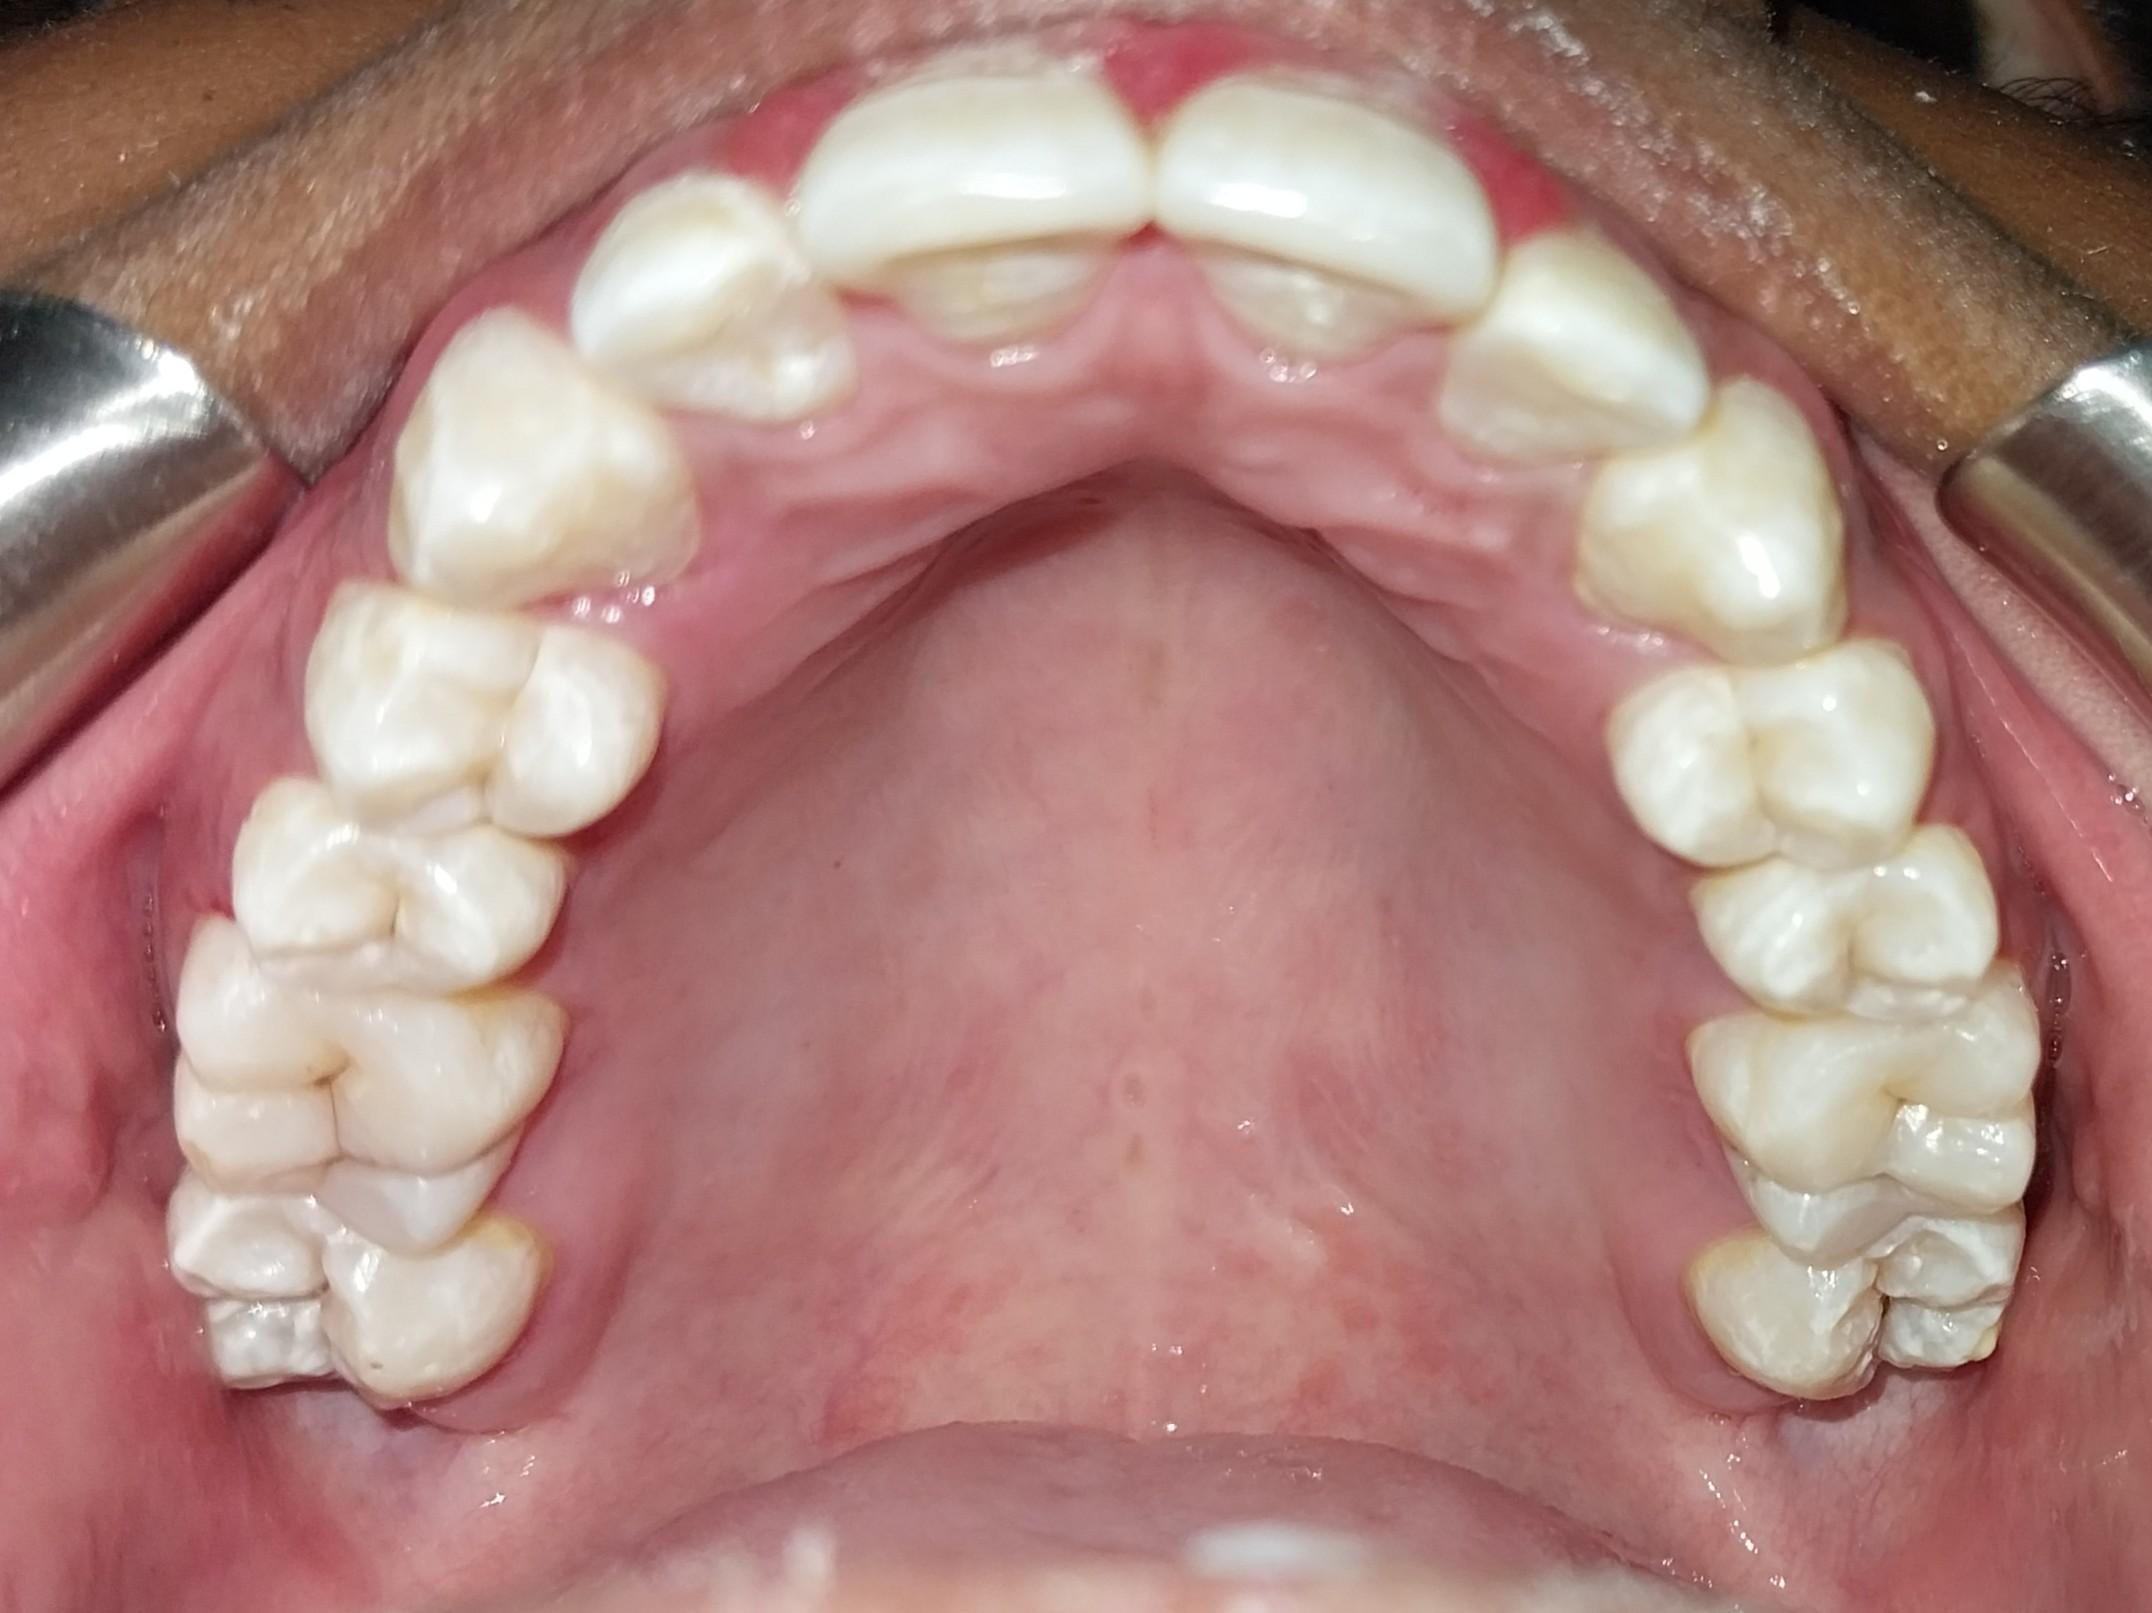D: (1698, 1210, 2026, 1397)
